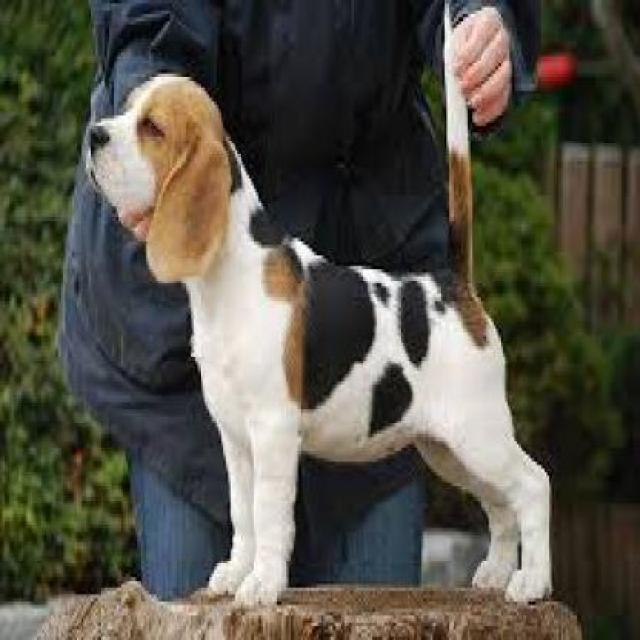Dog: (83, 5, 557, 617)
